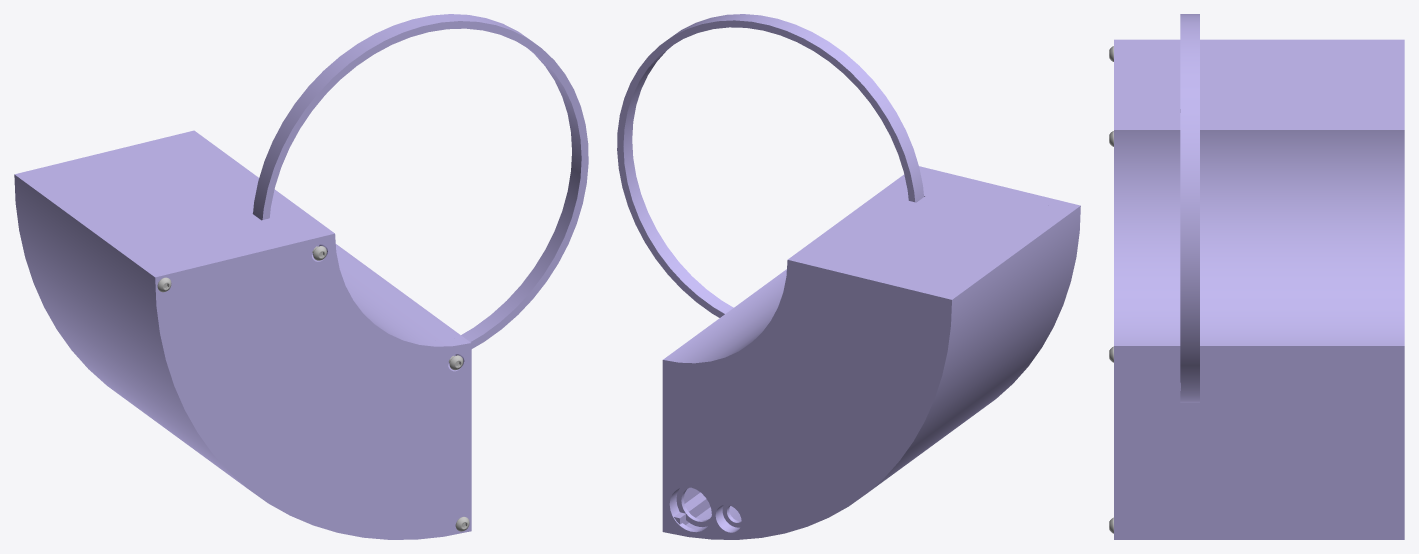
Rendered from kinghacksassembly_purple.glb.
3 views of the same model, side by side, from view 1: azimuth 30°, elevation 25°; view 2: azimuth 150°, elevation 25°; view 3: azimuth 270°, elevation 25° (orthographic). The views are drawn at different scales.
Parts seen in each view (by area): view 1: kinghackspresentlid-1, kinghackspresent-1, kingshackspresentbuckle-1; view 2: kinghackspresent-1, kinghackspresentlid-1, kingshackspresentbuckle-1; view 3: kinghackspresent-1, kinghackspresentlid-1, kingshackspresentbuckle-1.
Boxes of the visible parts, x1,y1,x2,y2 form: kinghackspresentlid-1: (36, 227, 471, 539); kinghackspresent-1: (14, 130, 462, 387); kingshackspresentbuckle-1: (253, 14, 588, 348); kinghackspresent-1: (662, 174, 1072, 539); kinghackspresentlid-1: (784, 166, 1080, 489); kingshackspresentbuckle-1: (617, 14, 923, 317); kinghackspresent-1: (1132, 39, 1404, 539); kinghackspresentlid-1: (1114, 39, 1180, 539); kingshackspresentbuckle-1: (1180, 14, 1199, 402).
Bounding box in the file's own units: 0.1962 × 0.1957 × 0.1045.
